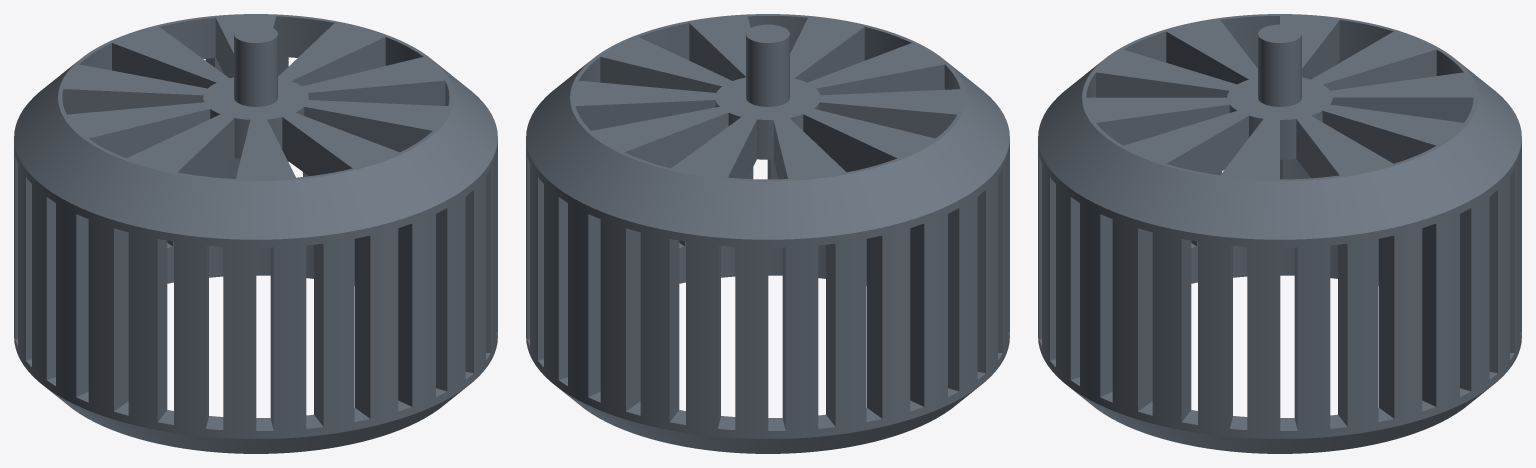
Rendered from ROVER_V1 - weel_left.gltf.
The picture shows the model from 3 angles, left to right: view 1: azimuth 30°, elevation 25°; view 2: azimuth 150°, elevation 25°; view 3: azimuth 270°, elevation 25°; orthographic projection.
Parts seen in each view (by area): view 1: weel_left; view 2: weel_left; view 3: weel_left.
Boxes of the visible parts, bbox=[...] form: weel_left: bbox=[14, 14, 497, 453]; weel_left: bbox=[526, 14, 1009, 453]; weel_left: bbox=[1038, 14, 1521, 453].
Size of the model in its own units: 0.55 by 0.415 by 0.55.
